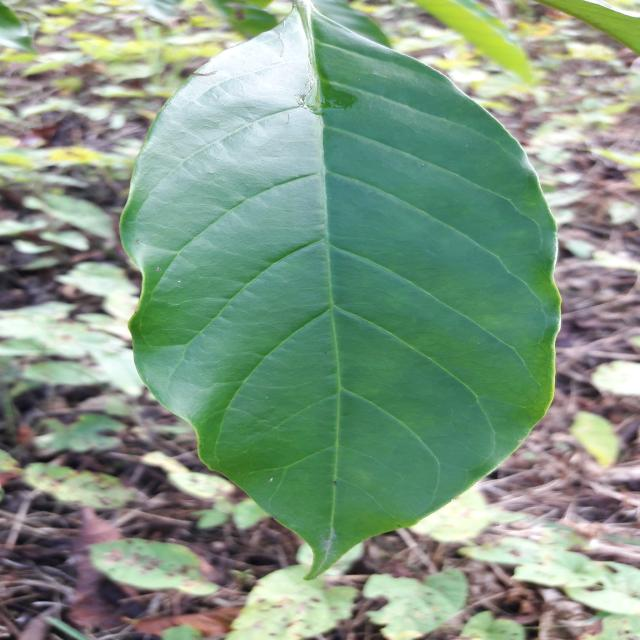Sanas: (119, 0, 562, 582)
